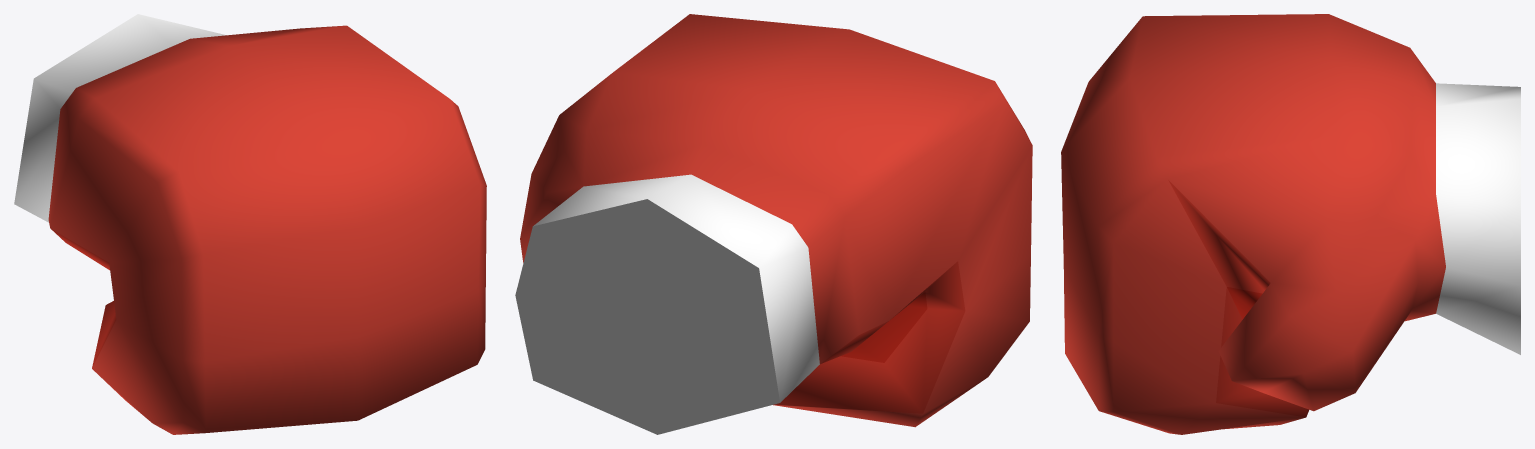
File: glove.FBX
3 renders of one model, left to right at view 1: azimuth 30°, elevation 25°; view 2: azimuth 150°, elevation 25°; view 3: azimuth 270°, elevation 25°, orthographic. The views are drawn at different scales.
Visible parts, largest first — view 1: glove; view 2: glove; view 3: glove.
Boxes of the visible parts, <box> form: glove: <box>14,14,486,434</box>; glove: <box>515,14,1032,434</box>; glove: <box>1061,14,1520,434</box>.
Bounding box in the file's own units: 3 × 2.45 × 3.16.
1 material, 1 textured.
